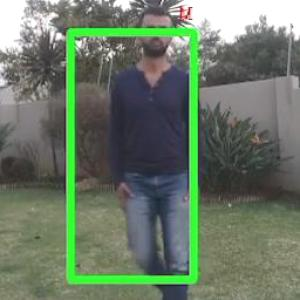follow: (106, 0, 208, 299)
